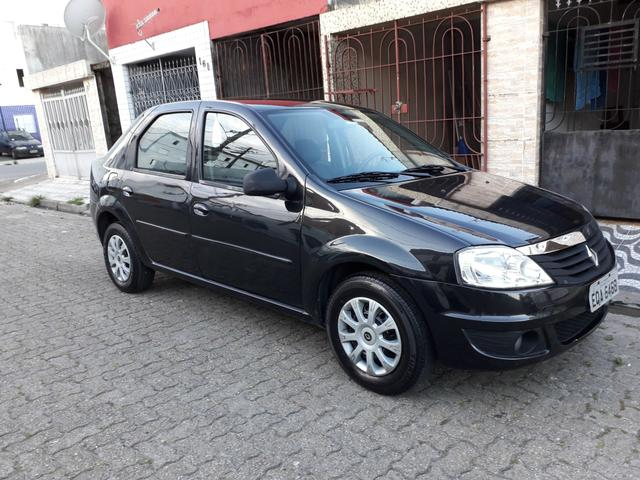Carro: (77, 98, 629, 405), (1, 127, 42, 159)
